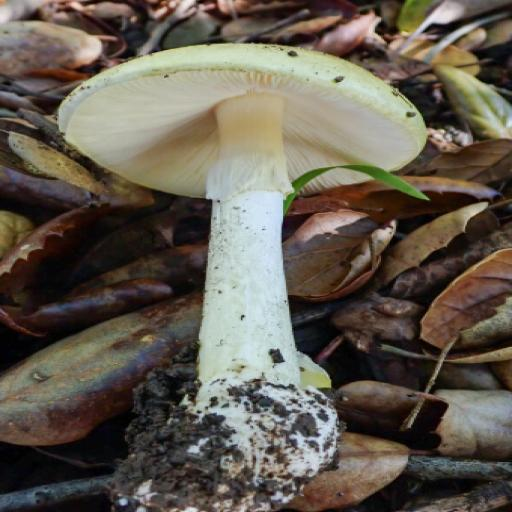Death Cap: (58, 32, 461, 512)
